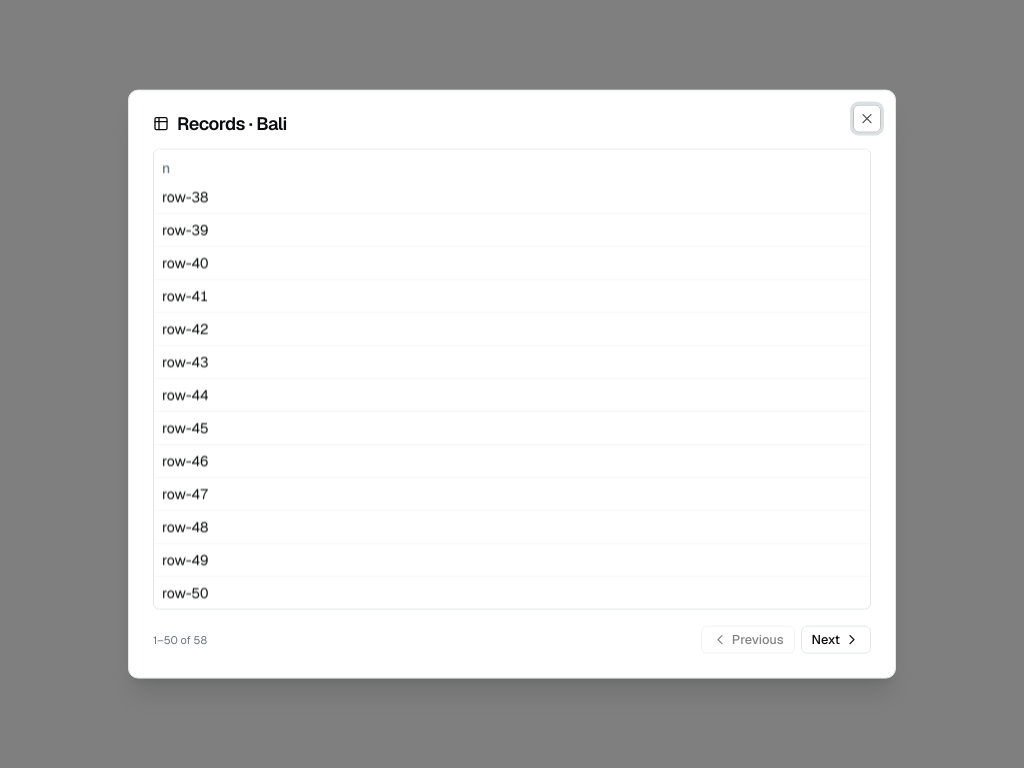
Scenario: RecordsDialog › walks Next across a page boundary and Previous back over it
The width and height of the screenshot is (1024, 768).
(page scrolled)
Check: the text "1–50 of 58" is shown, box [153,632,207,646]
Step 1. Click the text "row-50" → [185, 593], box [154,576,870,609]
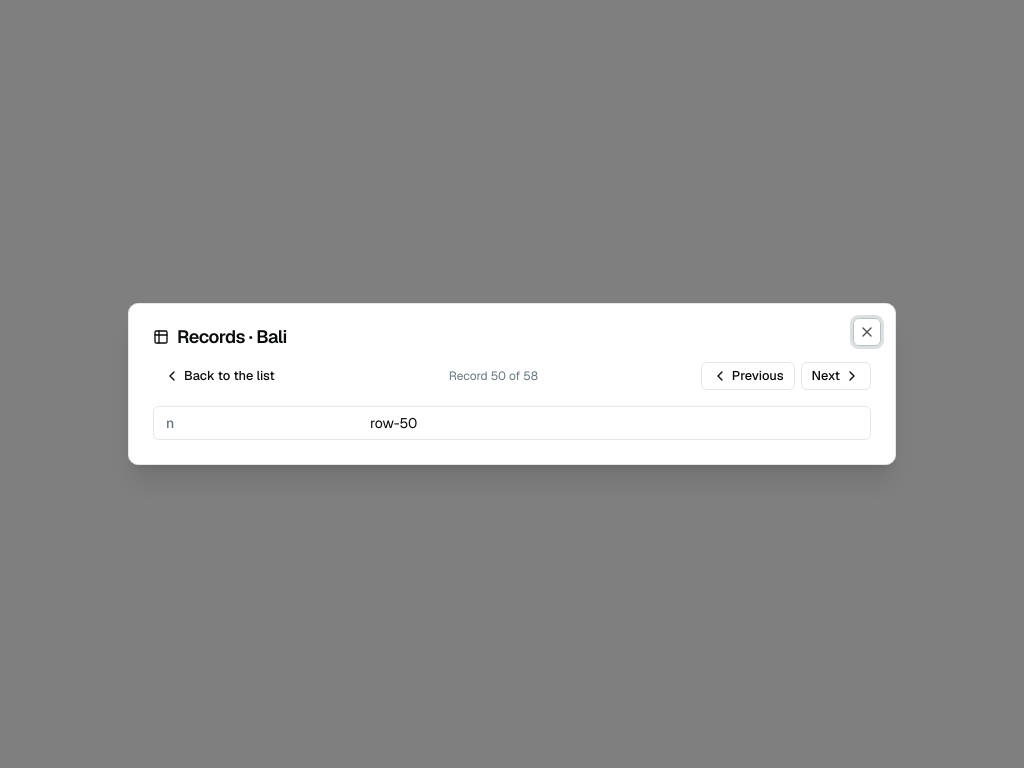
Check: the text "Record 50 of 58" is shown, box [449,368,538,384]
Step 2. Click the button "Next" → [836, 376], box [800,362,871,390]
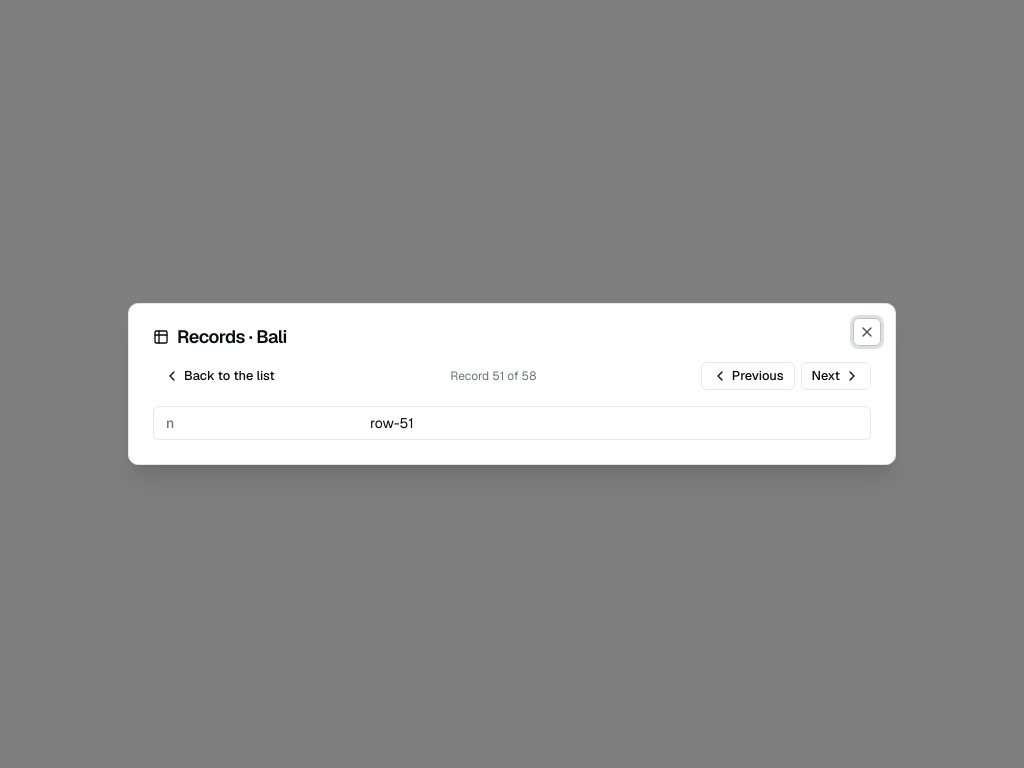
Check: the text "Record 51 of 58" is shown, box [450,368,536,384]
Check: the text "row-51" is shown, box [370,414,414,432]
Step 3. Click the button "Previous" → [748, 376], box [701,362,794,390]
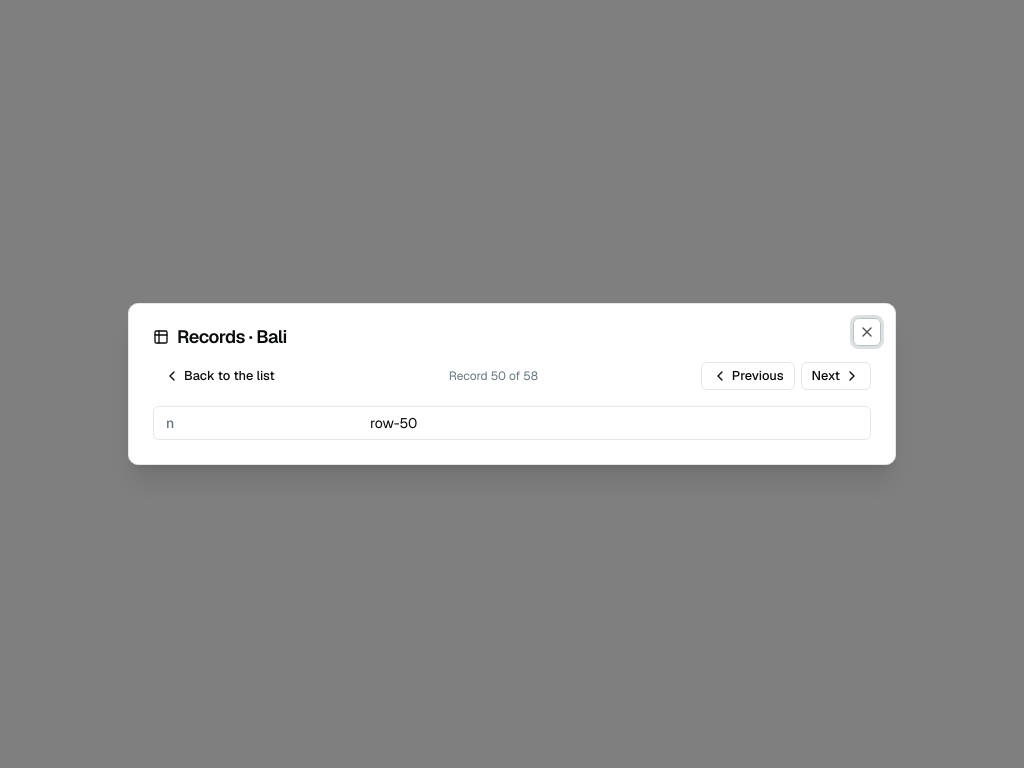
Check: the text "Record 50 of 58" is shown, box [449,368,538,384]
Check: the text "row-50" is shown, box [370,414,417,432]
